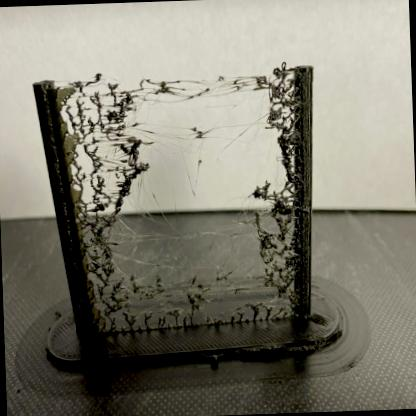fail: (63, 74, 299, 222), (107, 258, 293, 333)
